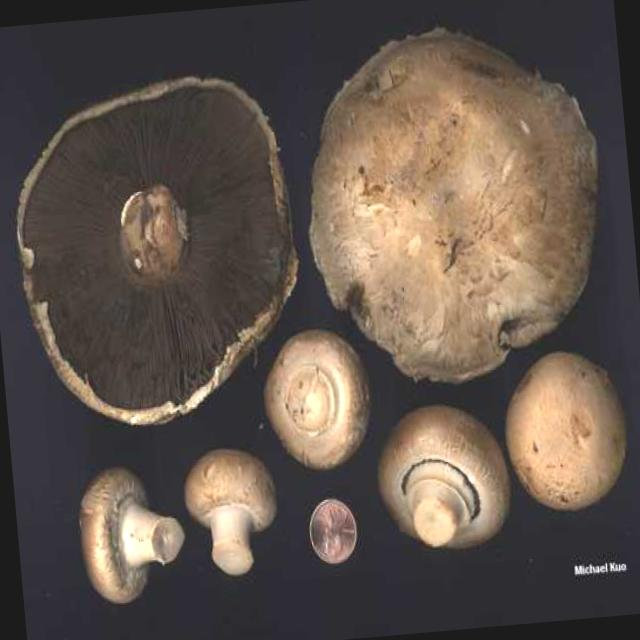Agaricus bisporus: (372, 396, 514, 550), (504, 343, 634, 511), (80, 464, 188, 600), (182, 442, 286, 579), (270, 325, 372, 464)
